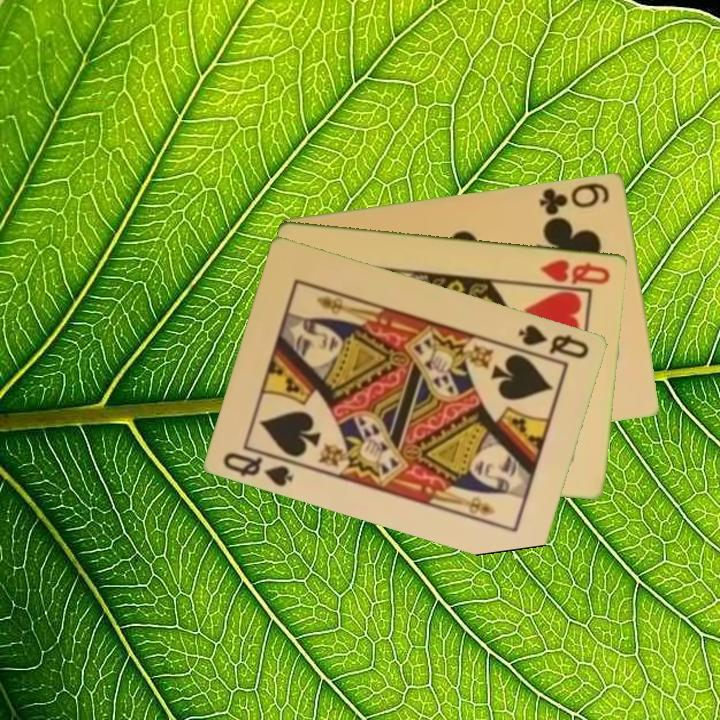6c: (536, 179, 613, 218)
Qh: (537, 255, 613, 287)
Qs: (220, 448, 297, 489), (515, 321, 592, 361)
